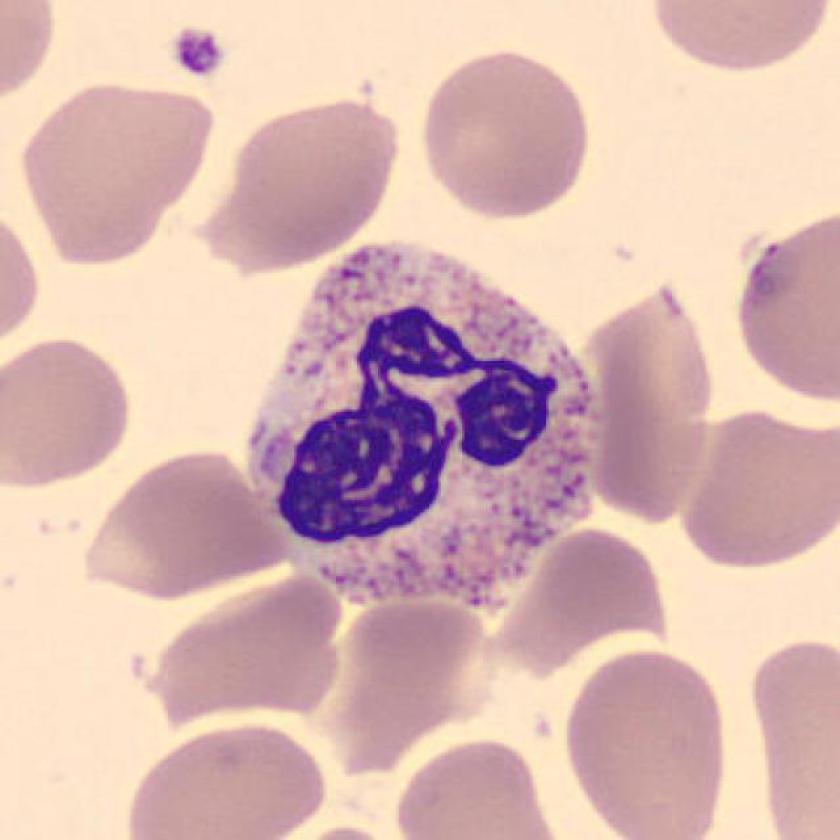neutrophil: (249, 237, 596, 614)
